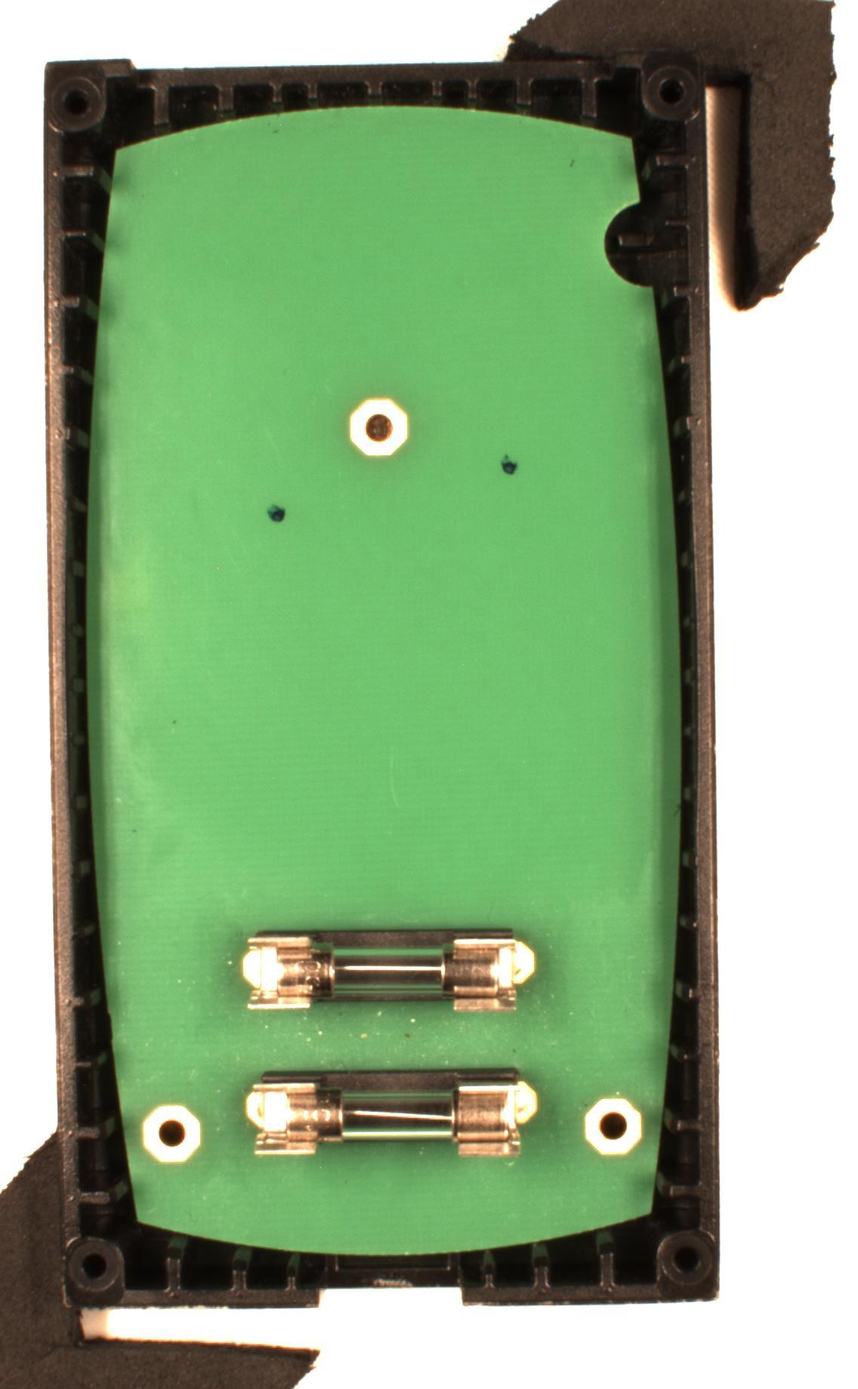Tockasto Ostecenje: (496, 453, 524, 478), (262, 501, 291, 525)
